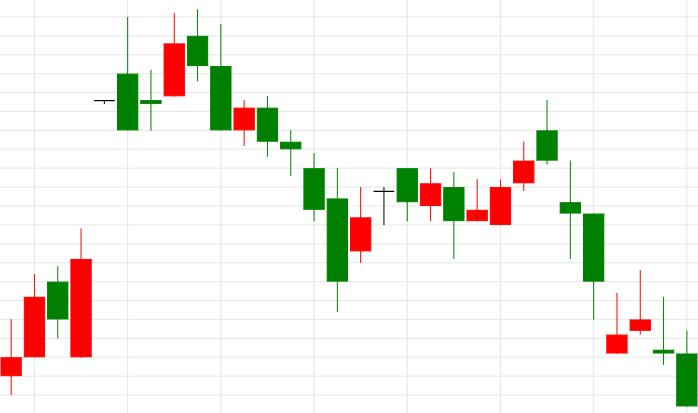inverse_hammer_rise: (536, 99, 628, 353)
